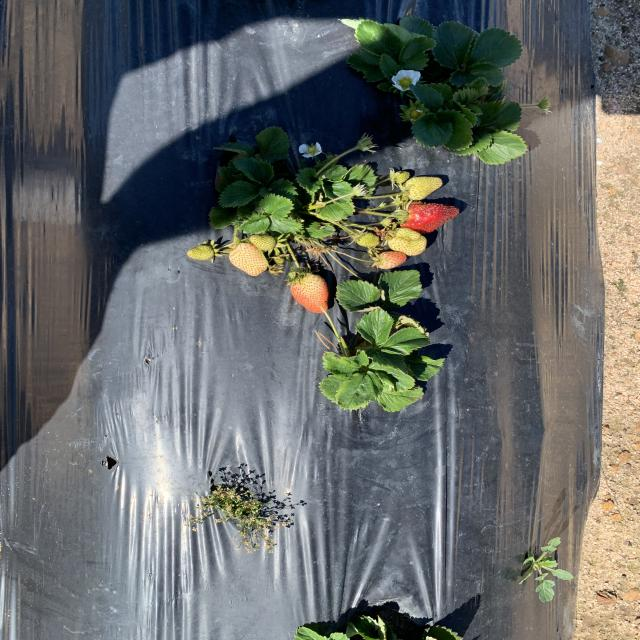unripe: (395, 196, 463, 234)
